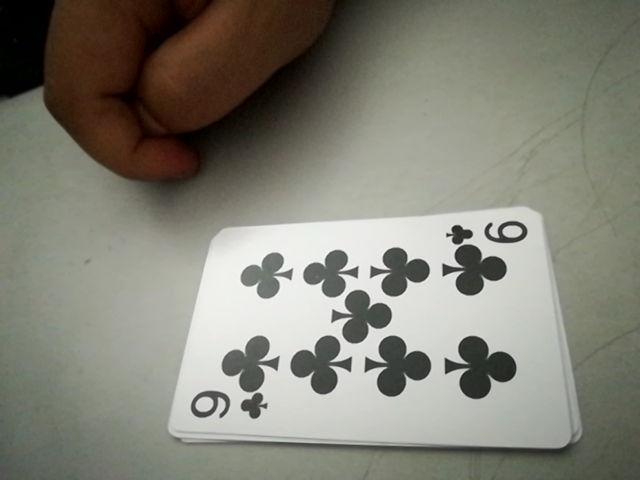mh 9: (180, 384, 273, 433), (447, 214, 537, 252)
